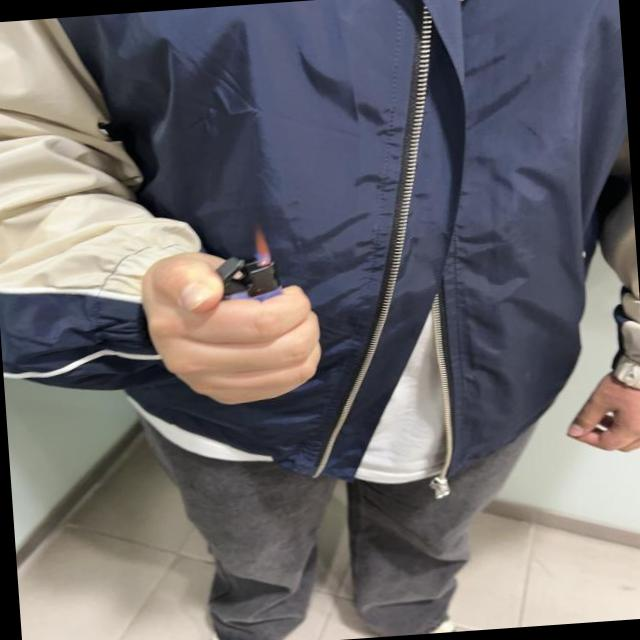Fire: (254, 229, 273, 268)
